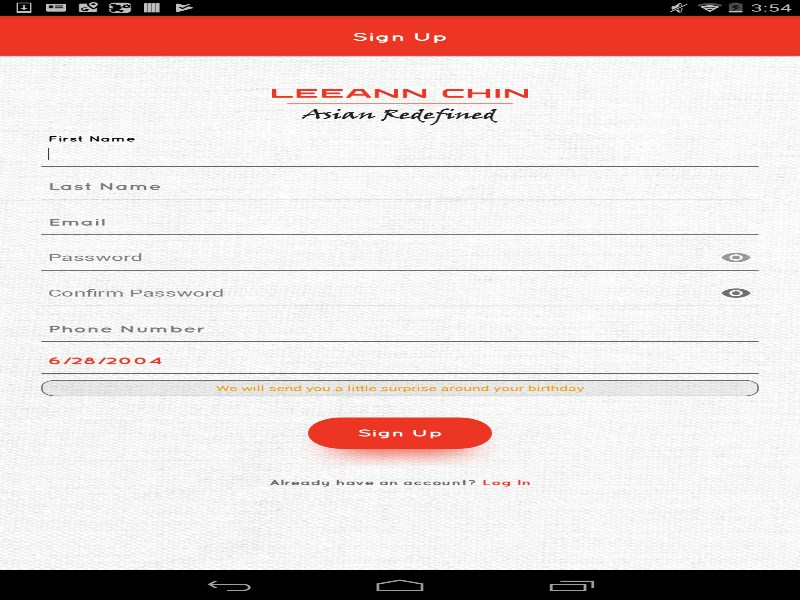Button: (300, 415, 500, 465), (713, 246, 758, 268), (713, 282, 758, 303)
Input: (41, 141, 758, 166), (41, 173, 758, 198), (41, 209, 758, 234), (41, 245, 758, 270), (41, 280, 758, 305), (41, 316, 758, 341)
